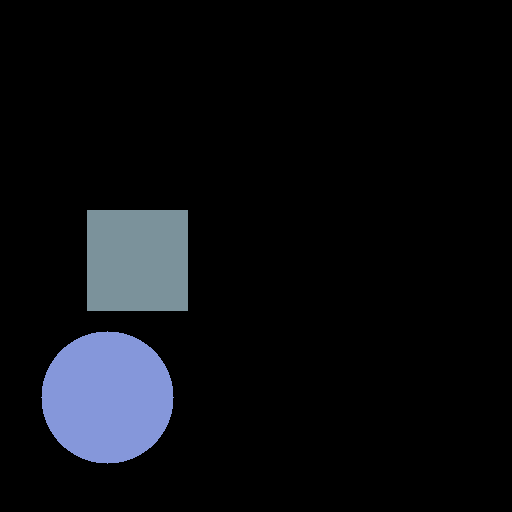circle: (41, 331, 173, 463)
square: (87, 210, 187, 310)
